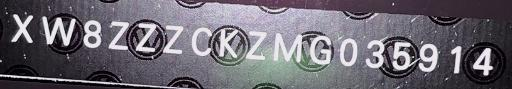letter: (36, 14, 78, 45), (269, 31, 305, 60), (157, 24, 189, 55), (385, 37, 415, 70), (240, 26, 268, 61), (306, 30, 332, 67), (468, 43, 496, 76), (102, 20, 132, 49), (416, 38, 442, 71), (132, 20, 156, 55), (360, 35, 384, 70), (8, 12, 34, 44), (214, 27, 240, 58), (78, 15, 102, 48), (190, 23, 212, 58), (336, 36, 360, 67), (442, 44, 468, 71)
